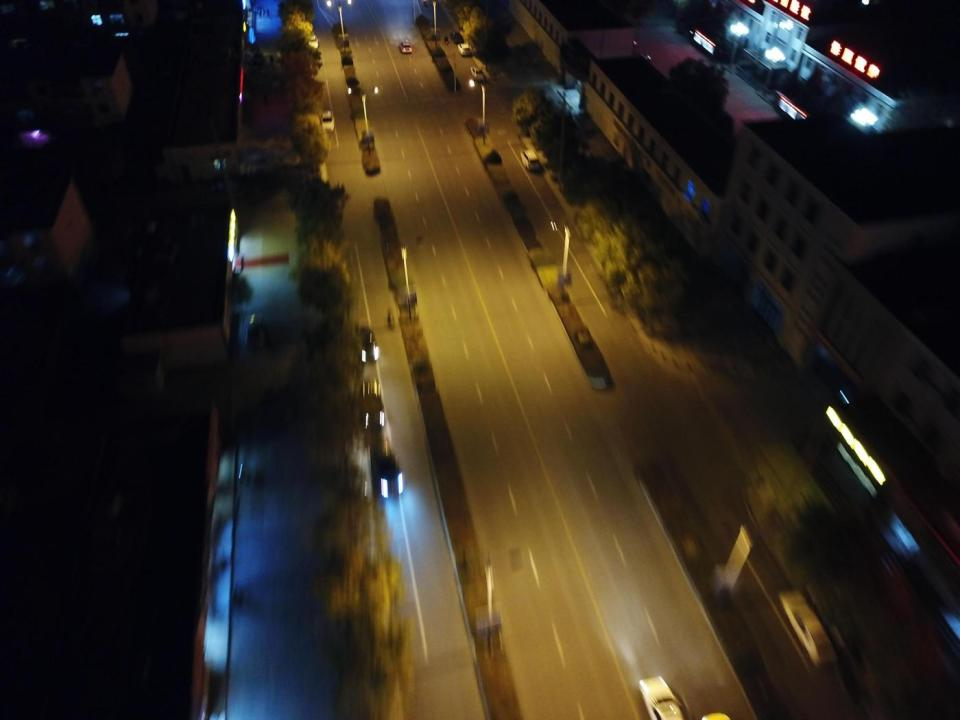car: (778, 589, 839, 667), (638, 677, 684, 720), (373, 450, 403, 498), (361, 378, 384, 430), (354, 327, 378, 364), (319, 110, 334, 132), (470, 66, 485, 82), (457, 42, 472, 57), (306, 34, 319, 49), (450, 31, 463, 44), (400, 40, 412, 53)
van: (245, 313, 269, 350), (520, 147, 539, 171)
